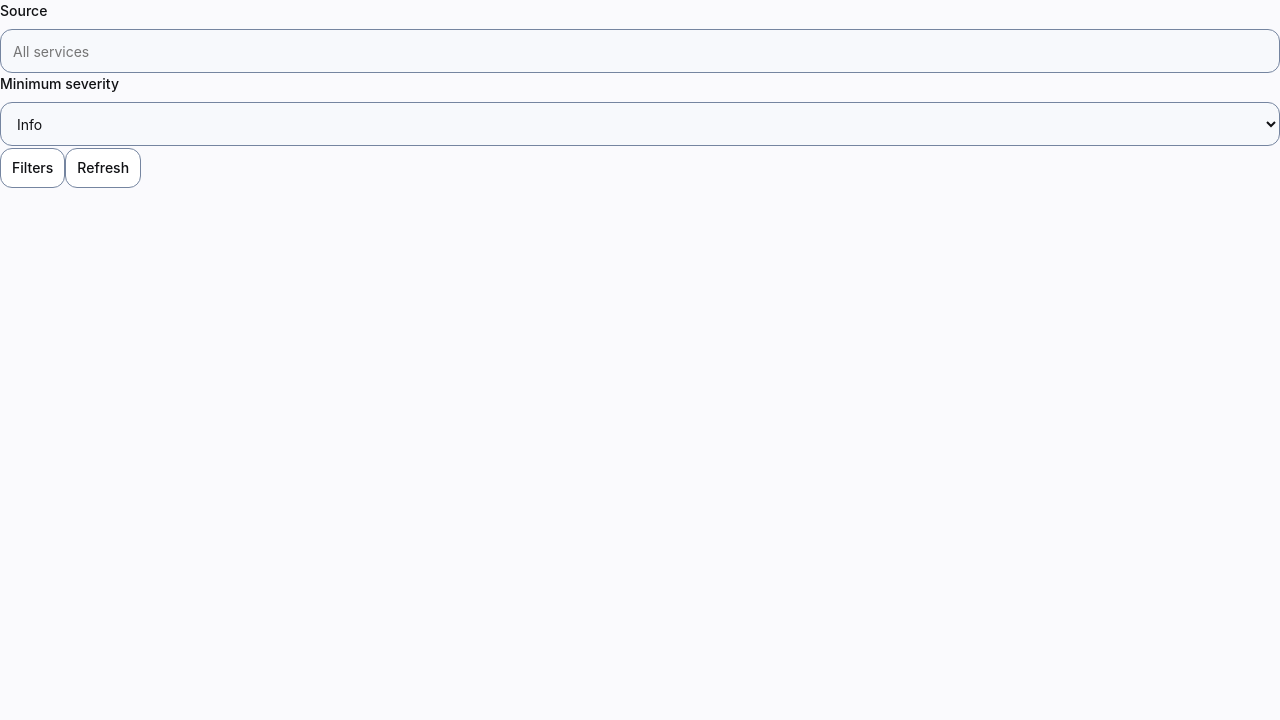
it: source commits on Enter and extra filters stay in a deliberate dialog
Type "filedock-core.service" into the field labelled "Source". click: (640, 51)
box: [0,29,1279,73]
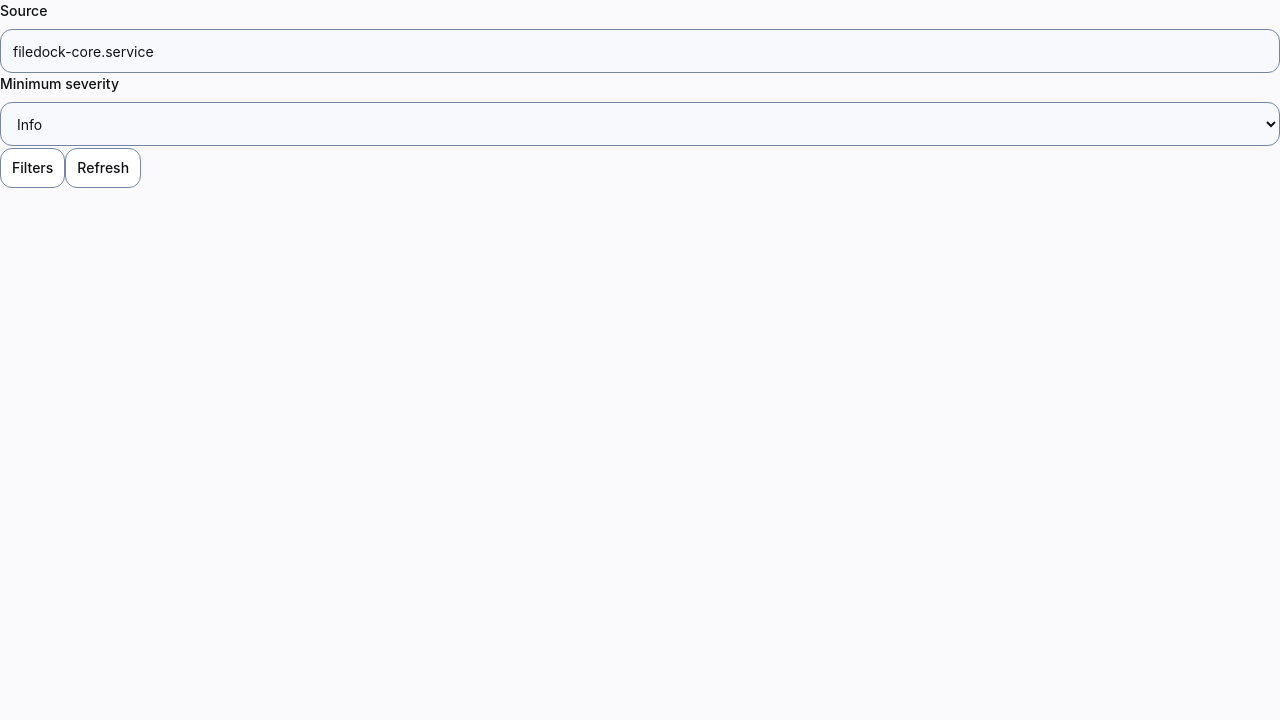
Submit the form labelled "Source", box [0,0,1279,73]
Click the button "Filters". click: (33, 168)
box: [0,146,65,190]
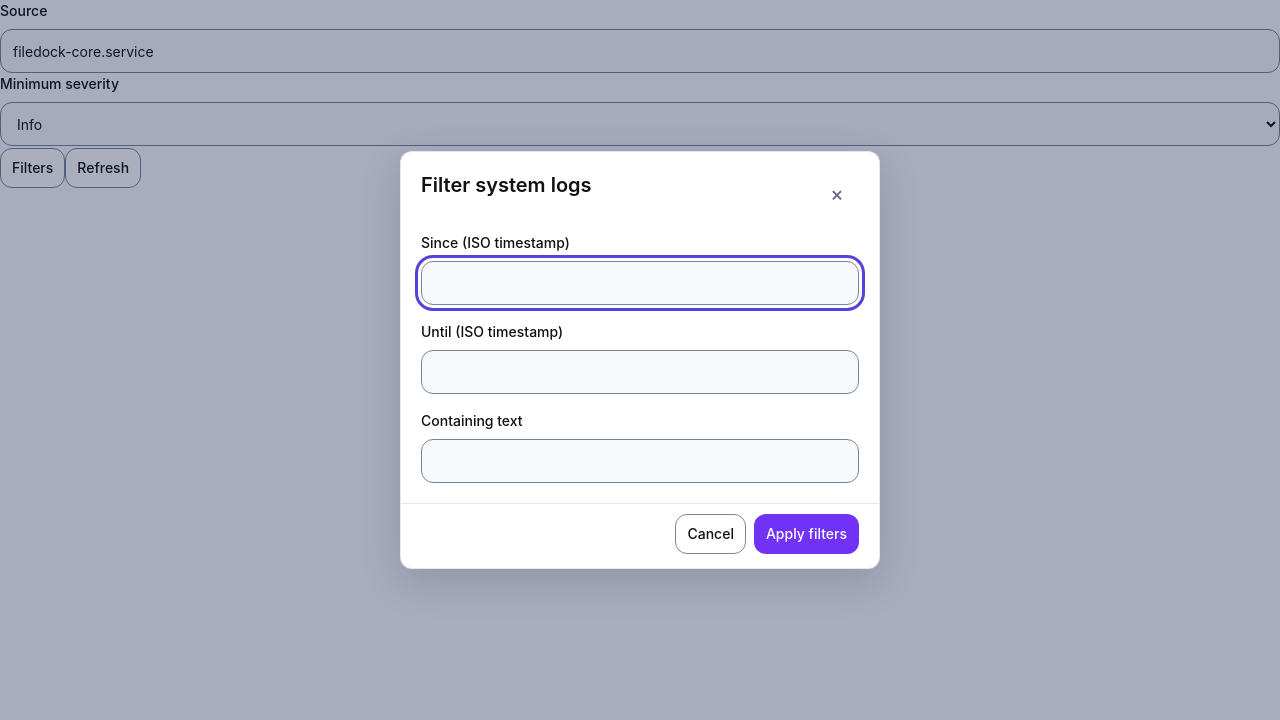
Check: the dialog "Filter system logs" is shown, box [400,151,880,569]
Type "bad" into the field labelled "Since (ISO timestamp)". click: (640, 283)
box: [421,261,859,305]
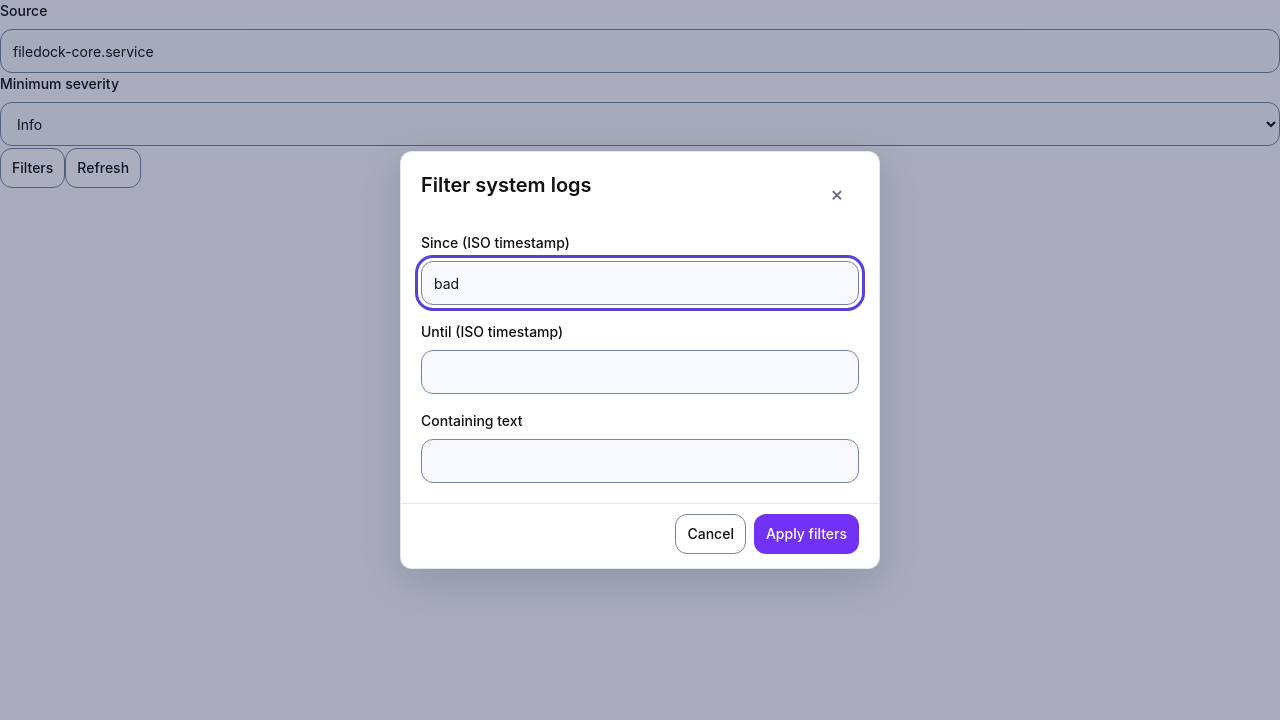
Click the button "Apply filters". click: (806, 534)
box: [754,512,859,556]
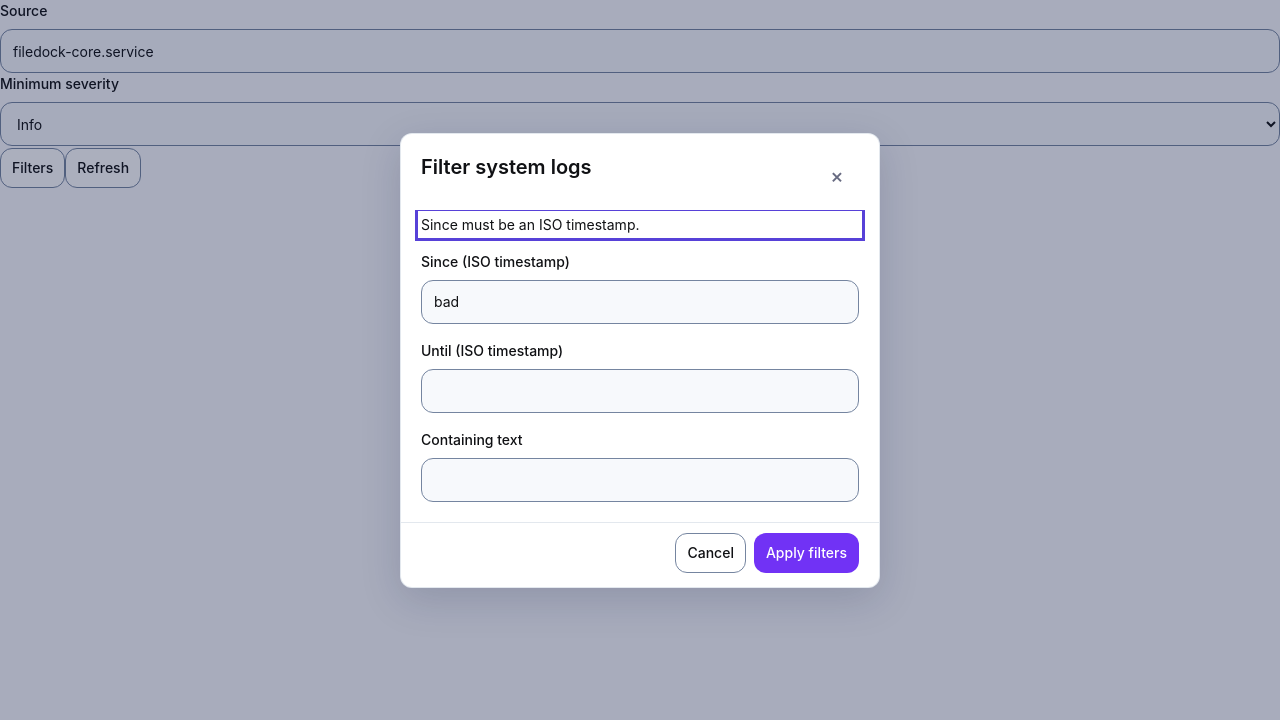
Check: the message shows "ISO", box [421,216,640,232]
